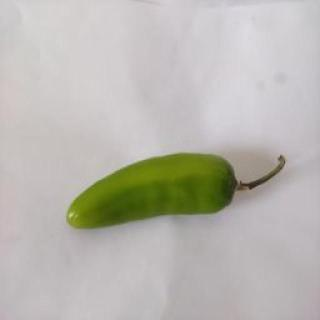Cabai Hijau: (60, 150, 290, 233)
